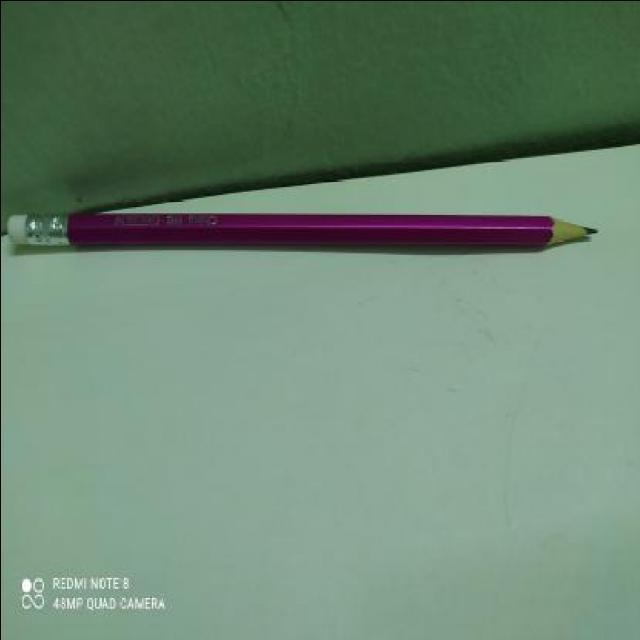pencil: (541, 209, 604, 249)
